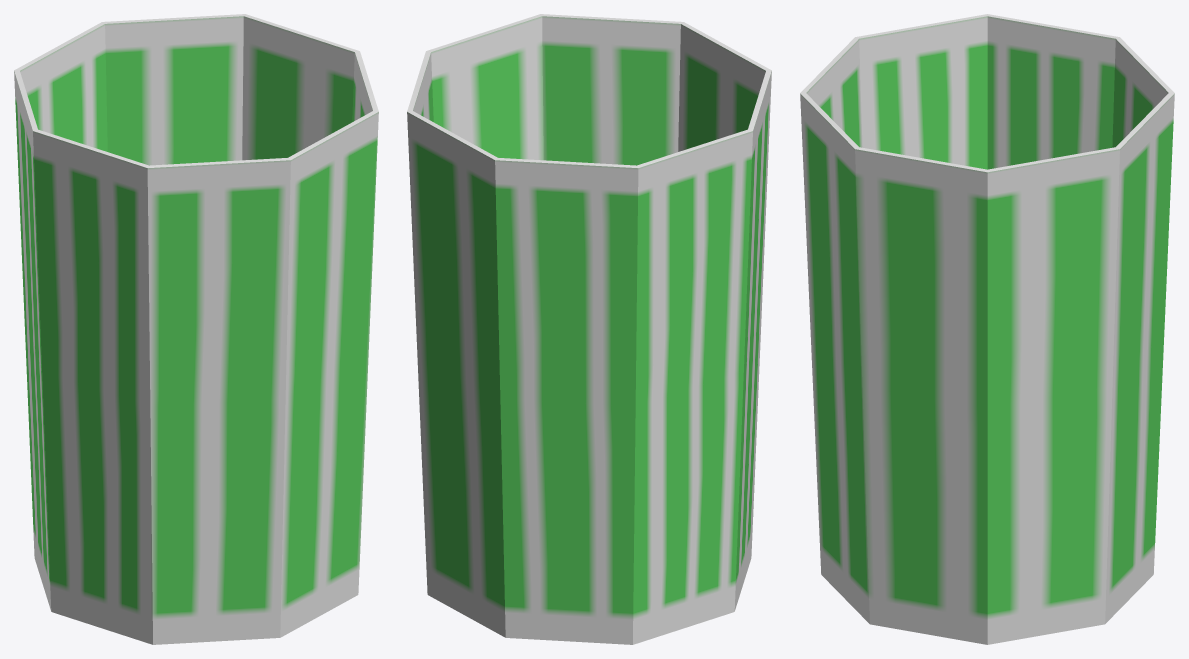
File: JuiceCupA.fbx
3 renders of one model, left to right at view 1: azimuth 30°, elevation 25°; view 2: azimuth 150°, elevation 25°; view 3: azimuth 270°, elevation 25°, orthographic.
Parts seen in each view (by area): view 1: JuiceCupA; view 2: JuiceCupA; view 3: JuiceCupA.
Part boxes in pixels (x1,y1,x2,y2): JuiceCupA: (14, 14, 378, 644); JuiceCupA: (407, 14, 771, 644); JuiceCupA: (800, 14, 1174, 644).
Size of the model in its own units: 102 by 145 by 102.
